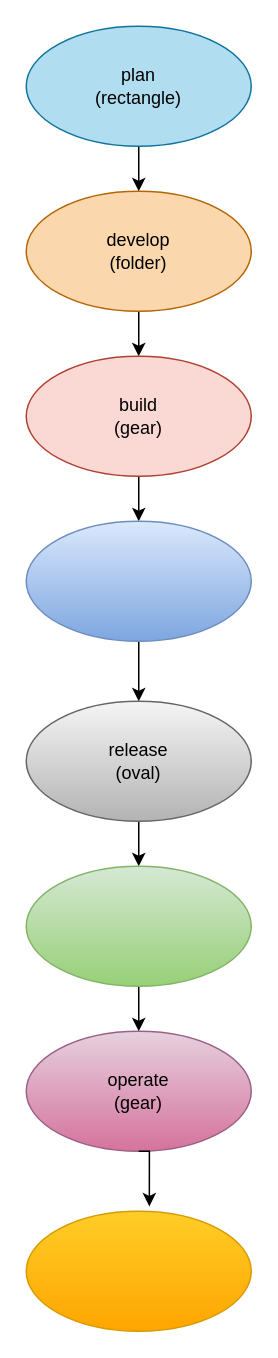
Some shapes in this 278 by 1358 pixel diagram are drawn without their labels. Here are the shapes that lost their labels. From the top down, the box of each, then its label:
(25, 520, 251, 641): test (diamond)
(25, 865, 251, 986): deploy (cylinder)
(25, 1210, 251, 1331): monitor (parallelogram)
